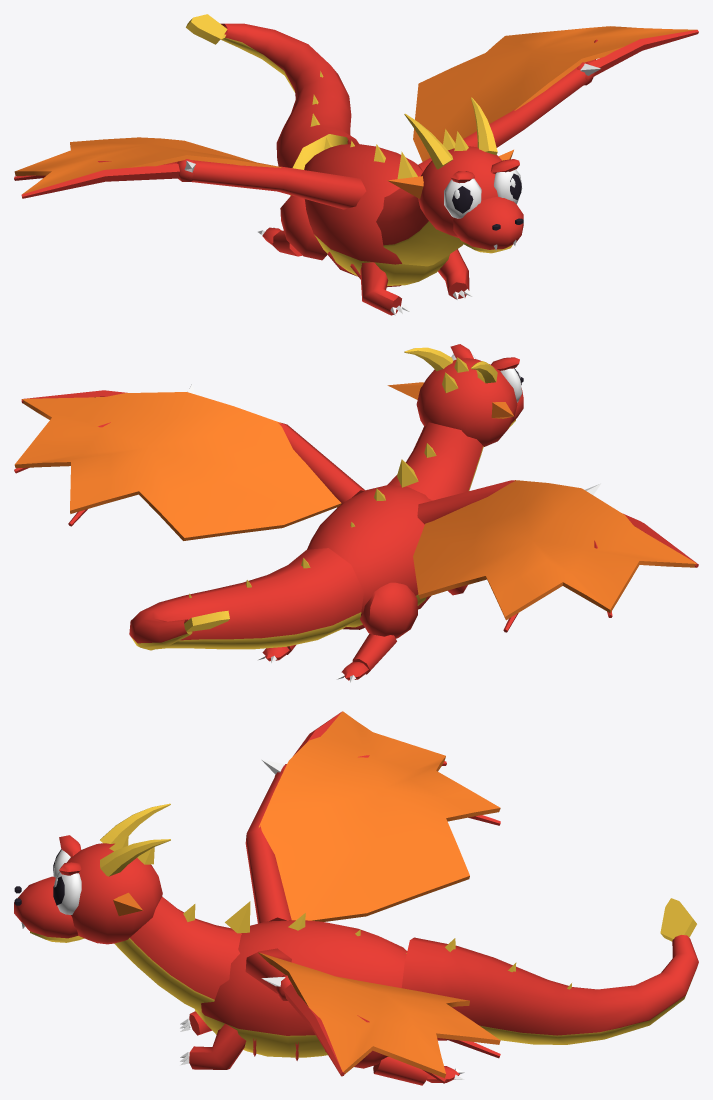
Rendered from dragon_flyer.glb.
The picture shows the model from 3 angles, top to bottom: view 1: azimuth 30°, elevation 25°; view 2: azimuth 150°, elevation 25°; view 3: azimuth 270°, elevation 25°; orthographic projection. The views are drawn at different scales.
Visible parts, largest first — view 1: body, wing_l, wing_r; view 2: body, wing_l, wing_r; view 3: body, wing_r, wing_l.
Boxes of the visible parts, left/top/right/bottom form: body: left=186, top=14, right=523, bottom=315; wing_l: left=413, top=26, right=698, bottom=171; wing_r: left=14, top=137, right=366, bottom=209; body: left=129, top=344, right=523, bottom=682; wing_l: left=14, top=384, right=365, bottom=540; wing_r: left=413, top=480, right=698, bottom=632; body: left=14, top=803, right=698, bottom=1085; wing_r: left=245, top=711, right=500, bottom=923; wing_l: left=245, top=948, right=500, bottom=1083.
Bounding box in the file's own units: 3.25 × 1.01 × 2.6.
